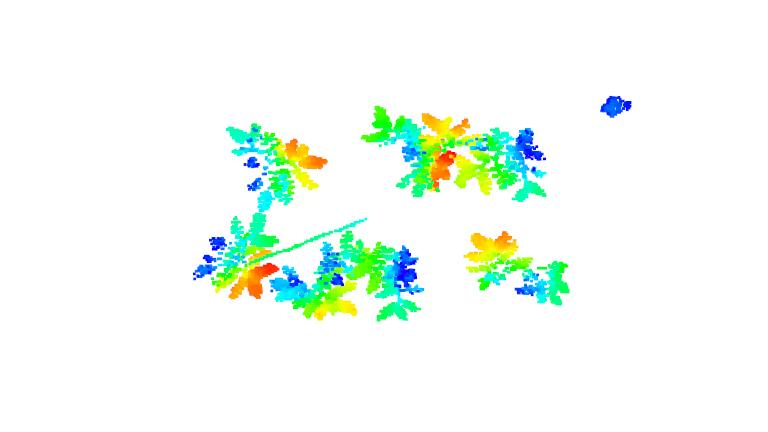chickpea: (362, 104, 472, 199), (224, 121, 325, 210), (191, 211, 280, 306), (342, 232, 426, 325), (454, 127, 551, 204), (269, 248, 358, 323), (463, 224, 532, 295), (513, 259, 574, 307)
